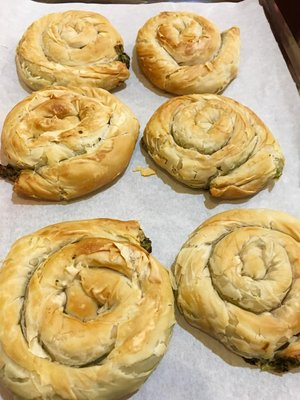curry: (1, 2, 299, 400)
salad: (0, 226, 176, 400), (171, 207, 300, 373), (134, 10, 242, 96)
sandwich: (0, 86, 140, 202)
